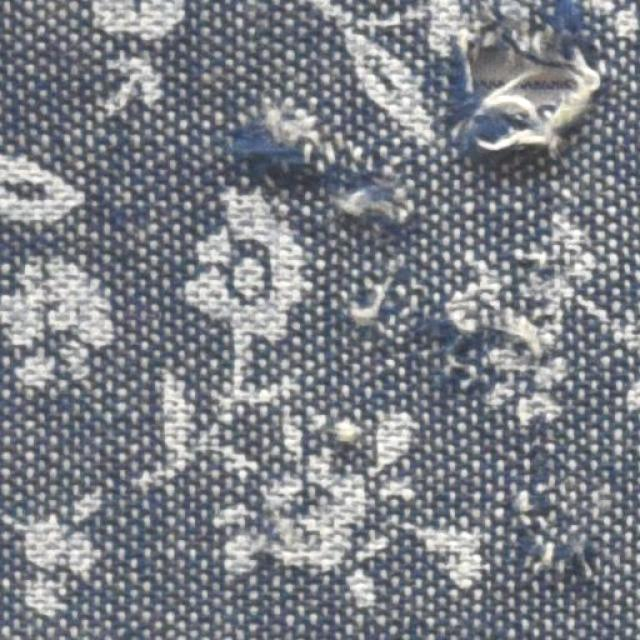Hole: (431, 43, 562, 118)
Snag: (398, 243, 575, 403), (452, 49, 597, 150), (500, 482, 606, 580), (243, 93, 340, 187), (340, 172, 423, 235)
